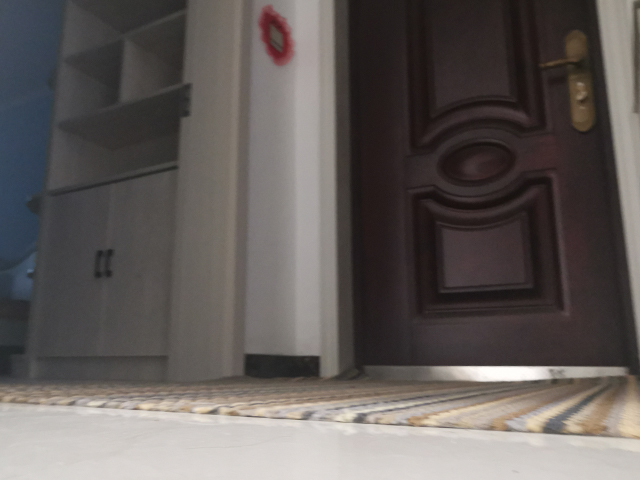cabinet: (22, 162, 239, 384)
carpet: (1, 373, 640, 439)
